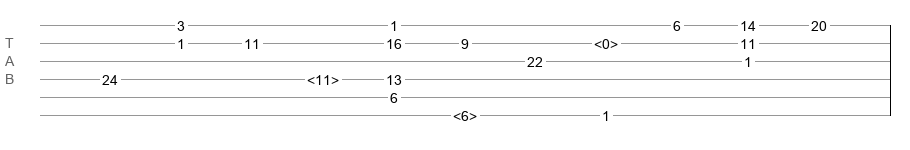1: (177, 36, 185, 46), (390, 18, 398, 28), (602, 108, 610, 118), (744, 54, 752, 64)
11: (244, 36, 260, 46), (740, 36, 756, 46)
13: (386, 72, 402, 82)
14: (740, 18, 756, 28)
16: (386, 36, 402, 46)
20: (811, 18, 827, 28)
22: (527, 54, 543, 64)
24: (102, 72, 118, 82)
3: (177, 18, 185, 28)
6: (390, 90, 398, 100), (673, 18, 681, 28)
9: (461, 36, 469, 46)
harmonic: (307, 72, 339, 82), (453, 108, 477, 118), (594, 36, 618, 46)
